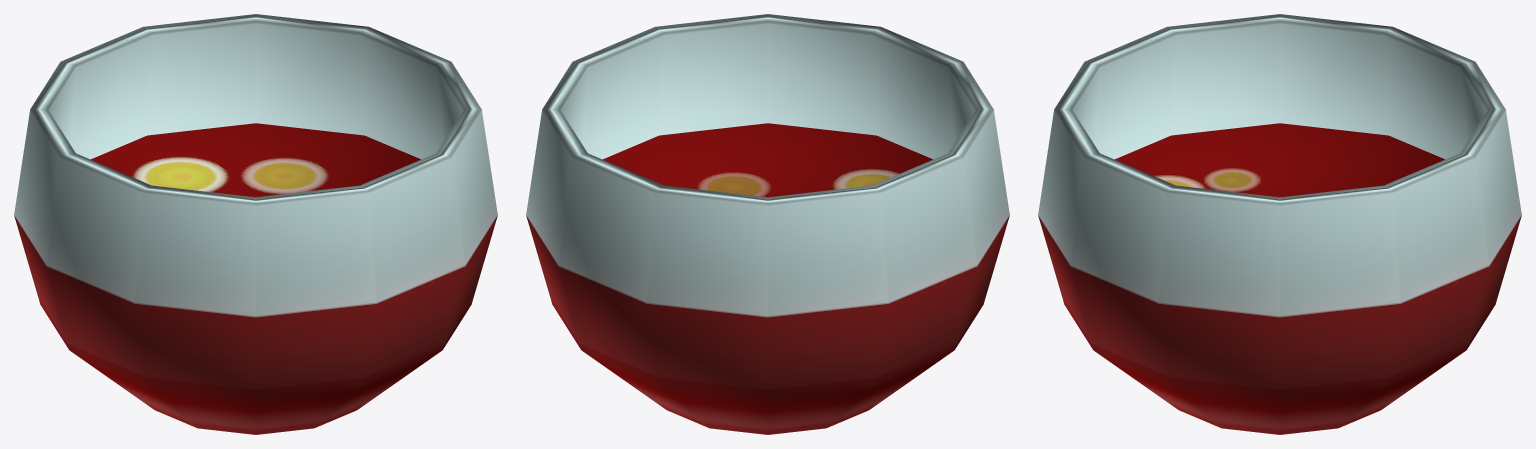
Rendered from bowl.fbx.
3 views of the same model, side by side, from view 1: azimuth 30°, elevation 25°; view 2: azimuth 150°, elevation 25°; view 3: azimuth 270°, elevation 25° (orthographic).
Visible parts, largest first — view 1: bowl; view 2: bowl; view 3: bowl.
Boxes of the visible parts, x1,y1,x2,y2 form: bowl: [14, 14, 497, 434]; bowl: [526, 14, 1009, 434]; bowl: [1038, 14, 1521, 434].
Size of the model in its own units: 0.7937 by 0.5 by 0.7937.
